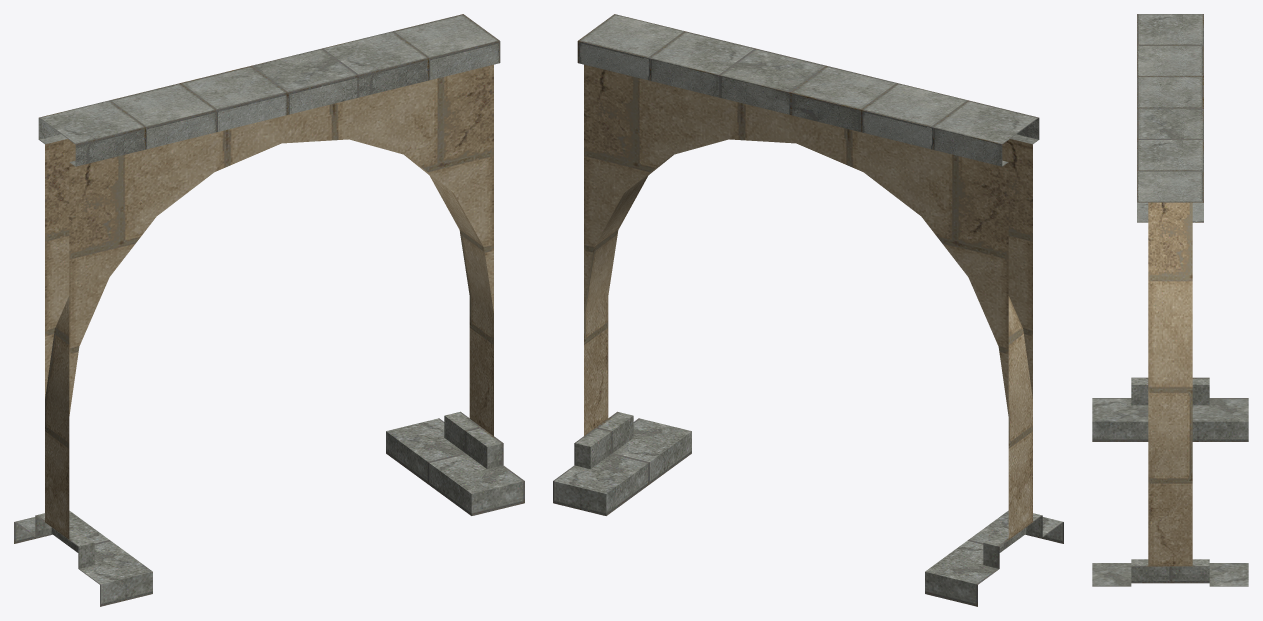
The model's file is arch_2U.fbx.
3 renders of one model, left to right at view 1: azimuth 30°, elevation 25°; view 2: azimuth 150°, elevation 25°; view 3: azimuth 270°, elevation 25°, orthographic. The views are drawn at different scales.
Visible parts, largest first — view 1: arch_2U; view 2: arch_2U; view 3: arch_2U.
Boxes of the visible parts, bbox=[...] form: arch_2U: bbox=[14, 14, 524, 606]; arch_2U: bbox=[553, 14, 1063, 606]; arch_2U: bbox=[1092, 14, 1248, 586].
Bounding box in the file's own units: 200 × 200 × 70.
